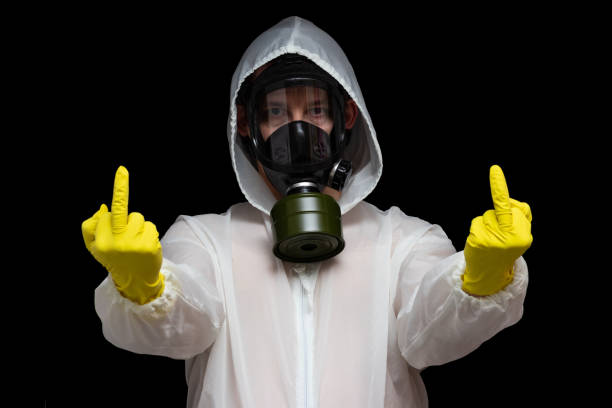insulting_gesture: (79, 164, 163, 283), (465, 163, 534, 286)
